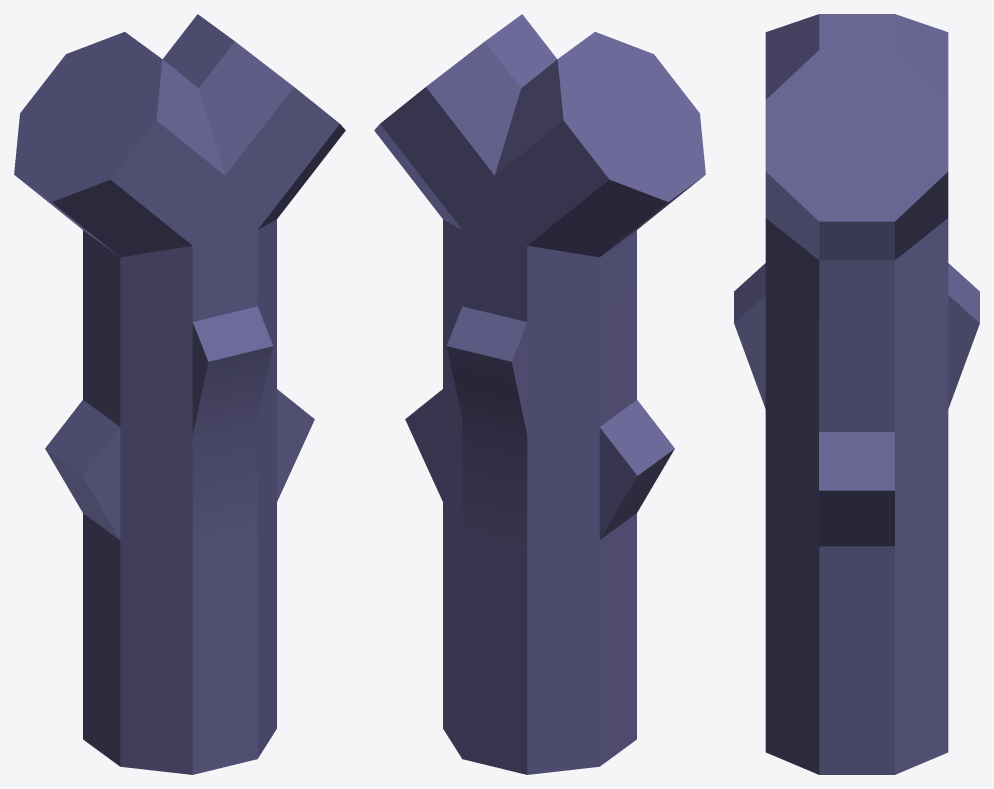
The model's file is boss-1-club.obj.
The picture shows the model from 3 angles, left to right: view 1: azimuth 30°, elevation 25°; view 2: azimuth 150°, elevation 25°; view 3: azimuth 270°, elevation 25°; orthographic projection.
Parts seen in each view (by area): view 1: mergedBlocks; view 2: mergedBlocks; view 3: mergedBlocks.
Part boxes in pixels (bbox=[...]): mergedBlocks: bbox=[14, 14, 345, 774]; mergedBlocks: bbox=[374, 14, 705, 774]; mergedBlocks: bbox=[734, 14, 979, 774].
Bounding box in the file's own units: 0.4082 × 0.924 × 0.2923.
